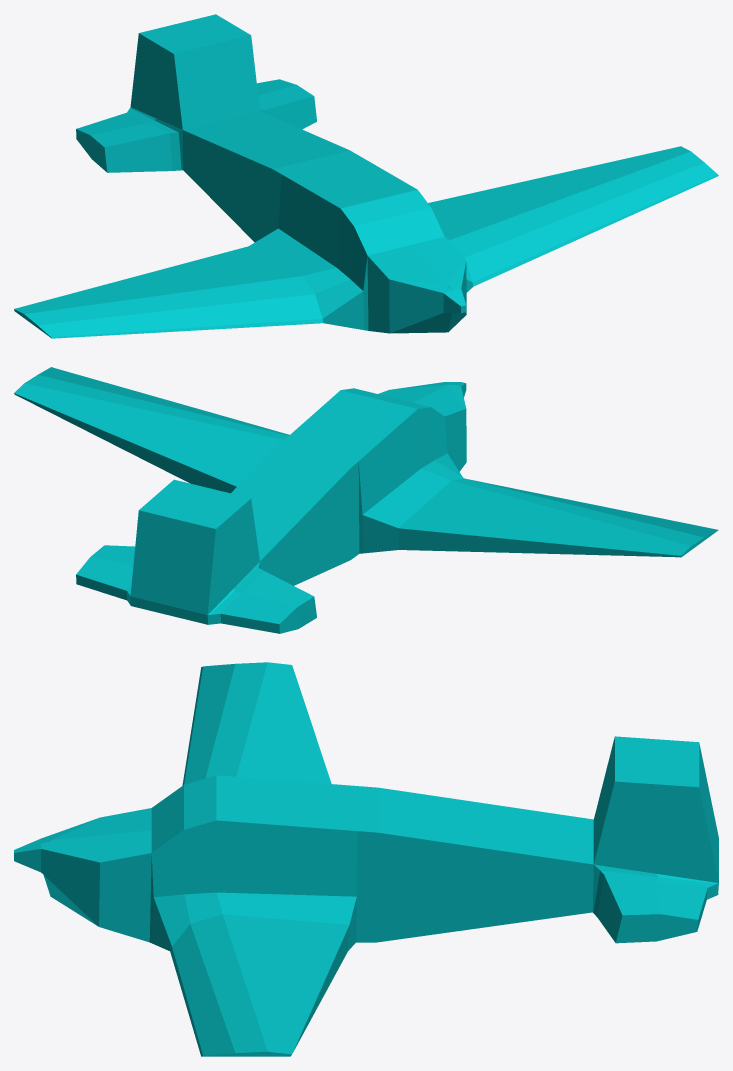
File: airplane.obj
3 views of the same model, one above another, from view 1: azimuth 30°, elevation 25°; view 2: azimuth 150°, elevation 25°; view 3: azimuth 270°, elevation 25° (orthographic). The views are drawn at different scales.
Visible parts, largest first — view 1: Cube; view 2: Cube; view 3: Cube.
Part boxes in pixels (<box>): Cube: <box>14,14,718,338</box>; Cube: <box>14,367,718,633</box>; Cube: <box>14,662,718,1056</box>.
Bounding box in the file's own units: 13.79 × 2.66 × 10.55.
